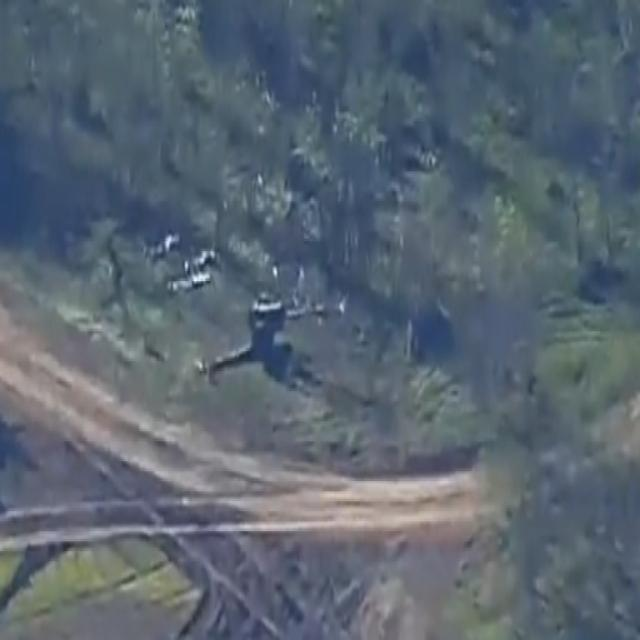ART: (196, 294, 345, 379)
